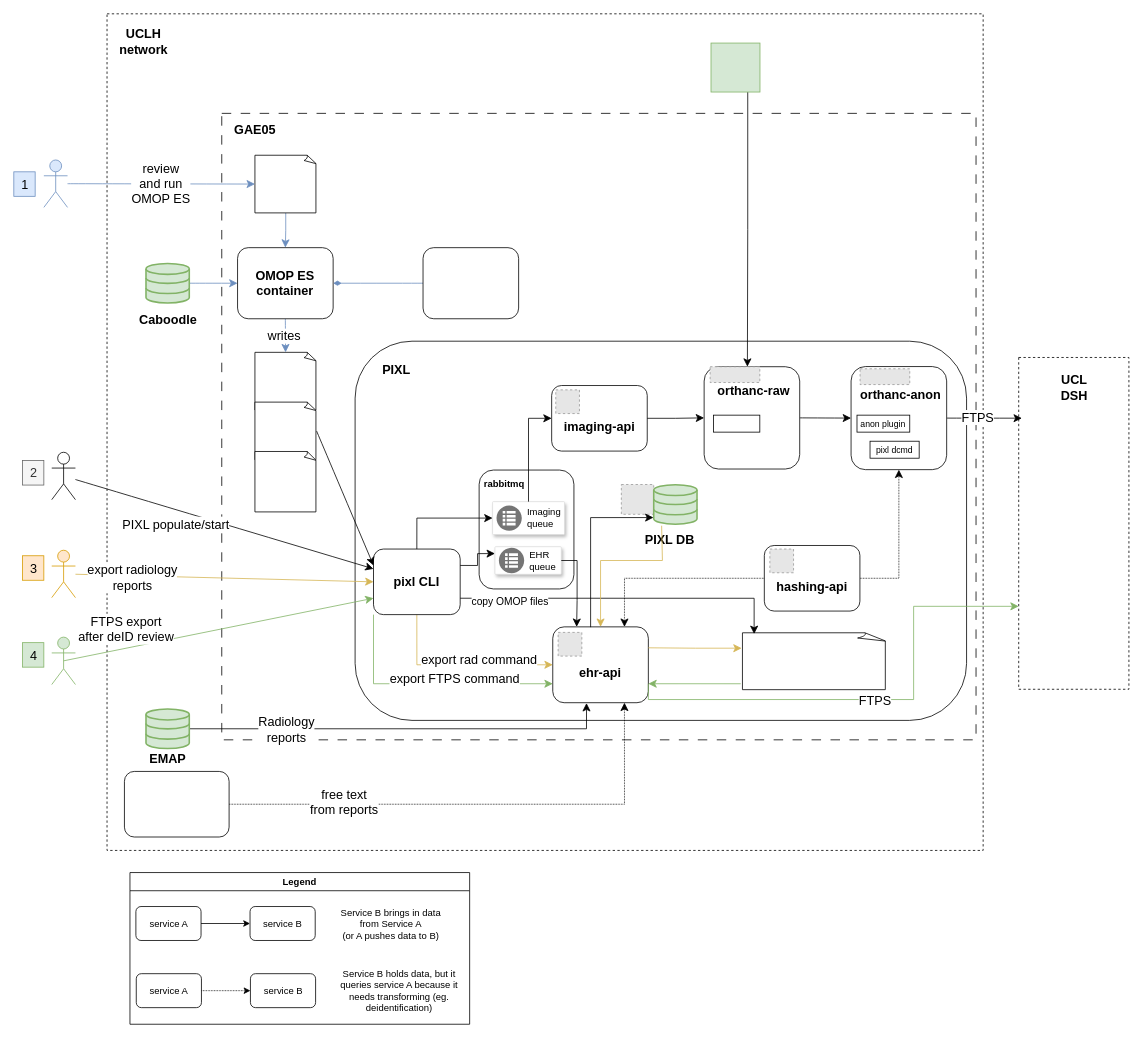
Some shapes in this 1143 by 1038 pixel diagram are drawn without their labels. Grey dashed boxes stand in for pictures. Each missing label, with the centre of its shape:
"cogstack deident api" goes at (176,804).
"export directory (public OMOP & reports parquets)" goes at (814,661).
"OMOP ES imaging plugin" goes at (470,283).
"OMOP ES log (json)" goes at (285,481).
"private (parquet)" goes at (285,430).
"public (parquet)" goes at (285,381).
"raw plugin" goes at (736,423).
"Settings" goes at (285,183).
"VNA" goes at (735,67).
